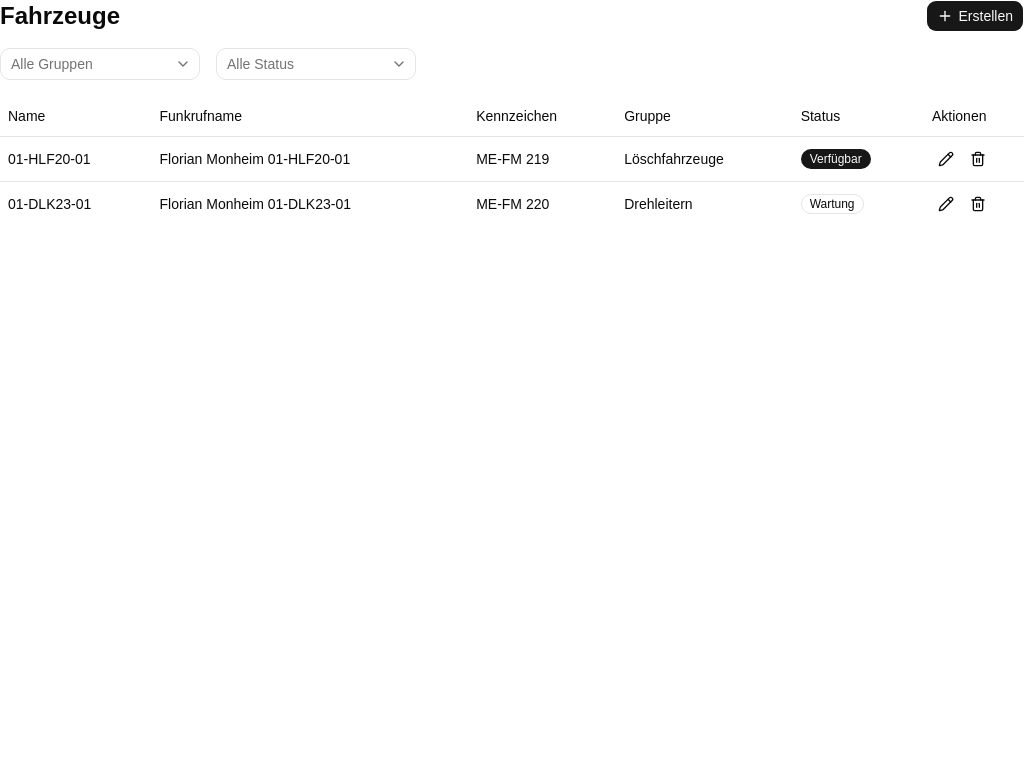
it: VehiclesPage › opens delete dialog when delete button is clicked
Click the button named "Löschen" in the row of "Florian Monheim 01-HLF20-01" at coordinates (978, 158), box x1=964 y1=144 x2=992 y2=172
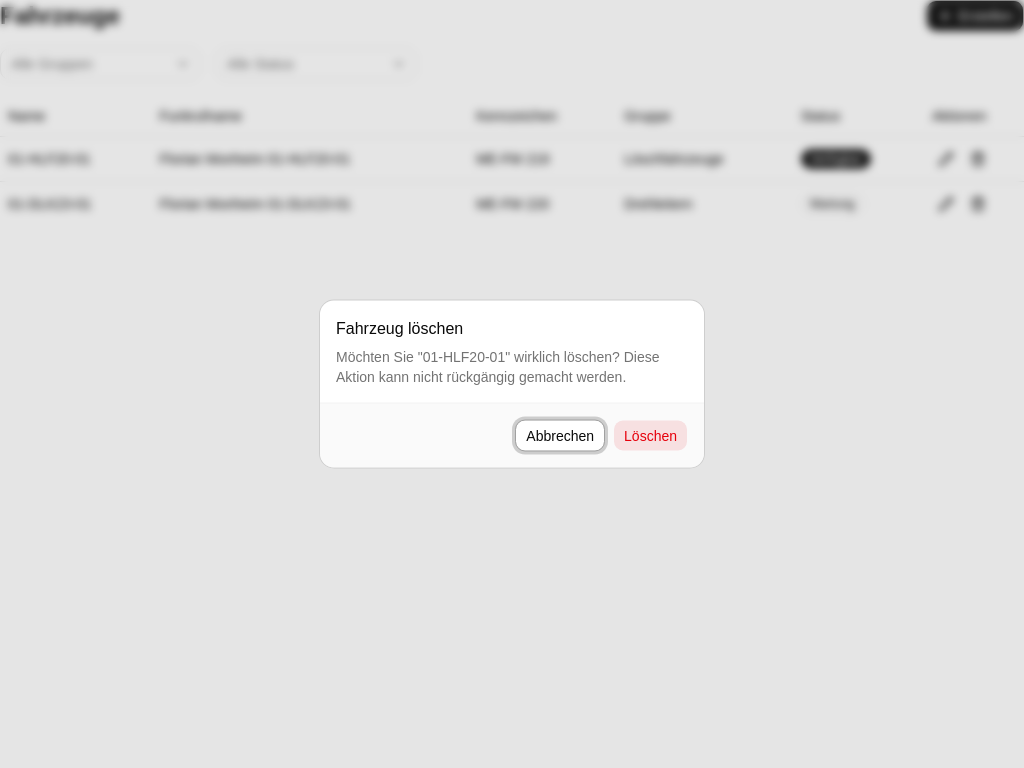
Expected: the heading "Fahrzeug löschen" is shown, x1=336 y1=316 x2=463 y2=340
